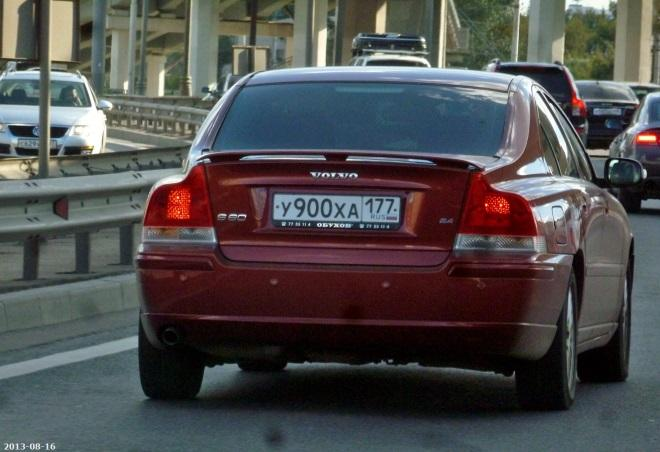license-plateSW: (274, 194, 404, 223)
